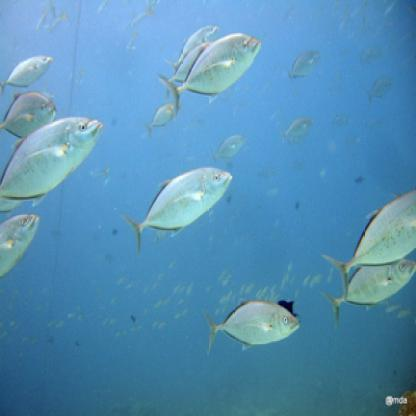jack: (121, 158, 237, 258), (319, 188, 415, 303), (1, 117, 110, 212), (158, 23, 264, 118), (200, 292, 304, 356), (1, 45, 57, 97)
